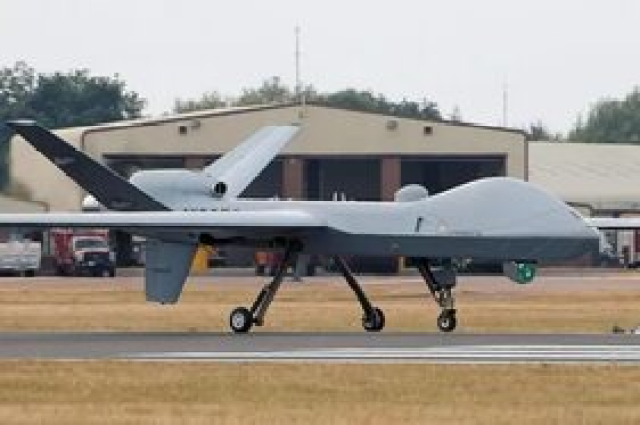military drone: (0, 119, 599, 332)
